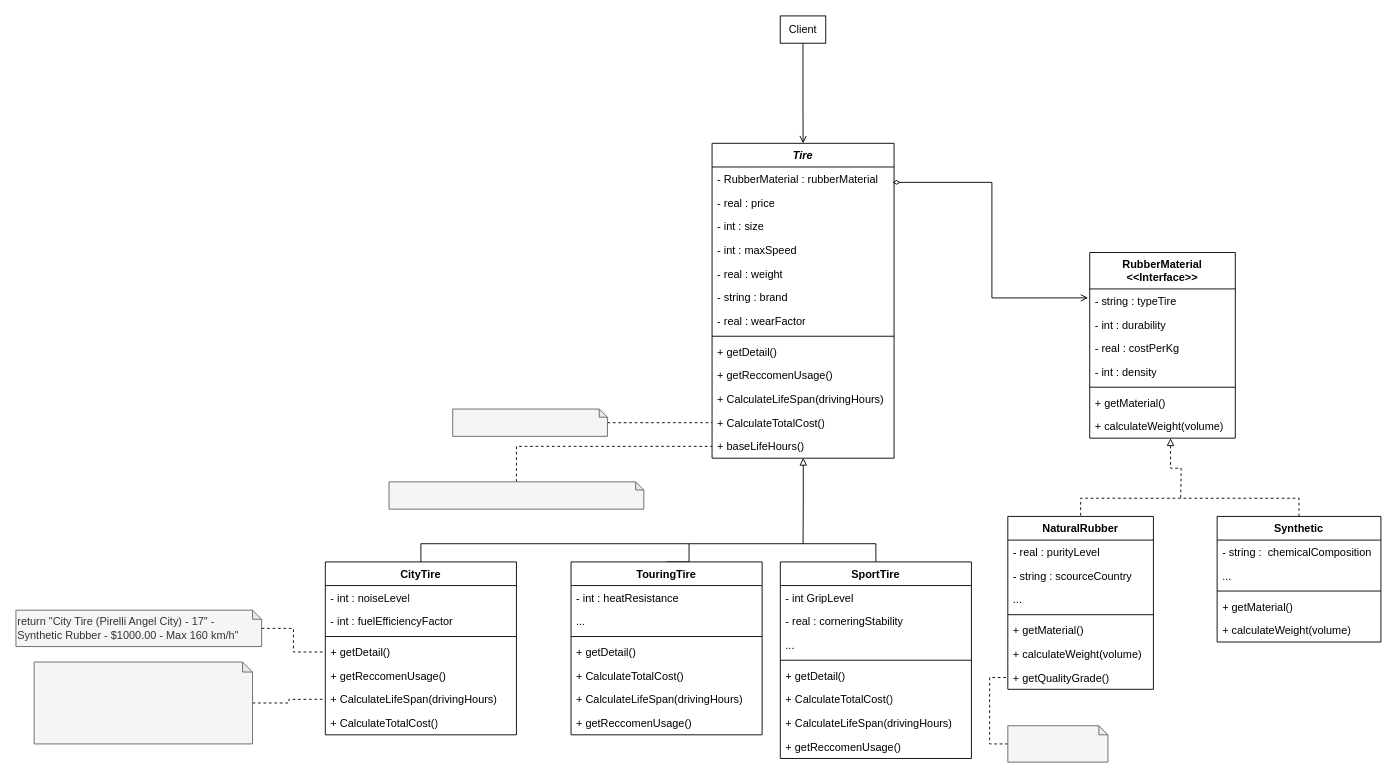
The diagram is 1397 pixels wide and 778 high, and some of its shapes have lost their labels. The shapes that lost their labels are listed below. From the top down, each one's centre as x and y in pixels, then its label:
pixel 529 422: return price + materialCost
pixel 516 495: return rubberMaterial.durability * 50 * wearFactor
pixel 143 702: life = BaseLifeHours() - drivingHours; if life < 0: return 0; else: return life;
pixel 1057 743: return "Premium" return "Good"
